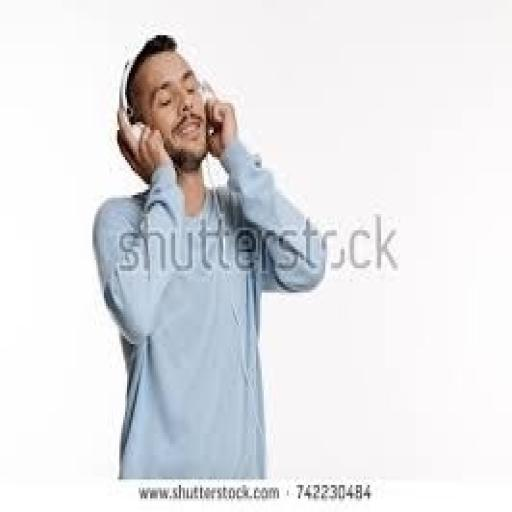listening_to_music: (89, 30, 329, 482)
